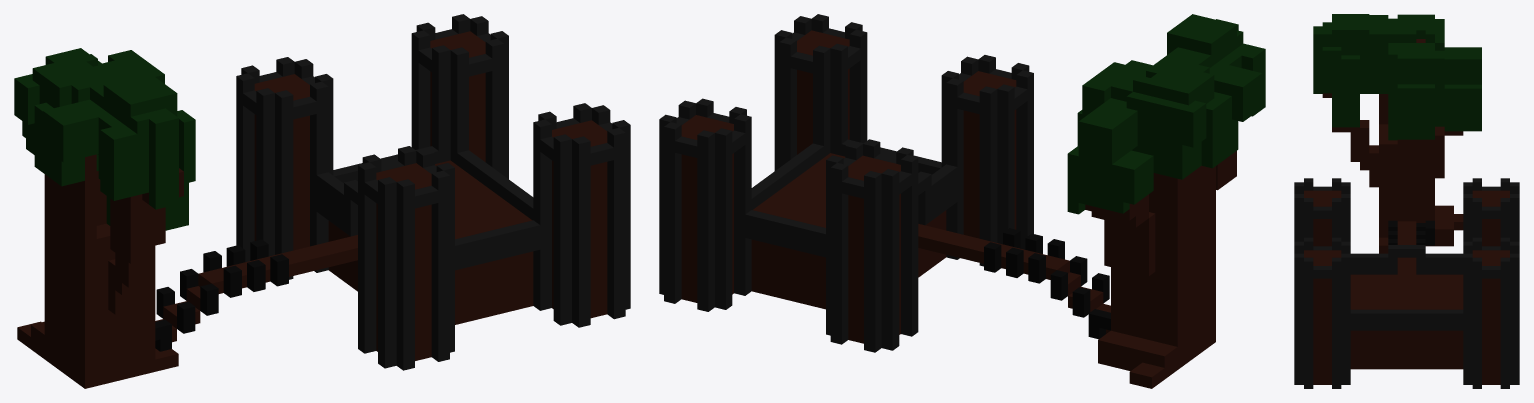
File: RandomBuilding.obj
3 renders of one model, left to right at view 1: azimuth 30°, elevation 25°; view 2: azimuth 150°, elevation 25°; view 3: azimuth 270°, elevation 25°, orthographic. The views are drawn at different scales.
Parts seen in each view (by area): view 1: Cube.2397_Cube.2476_Voxel_mat253, Cube.2397_Cube.2476_Voxel_mat138, Cube.2397_Cube.2476_Voxel_mat204, Cube.2397_Cube.2476_Voxel_mat255; view 2: Cube.2397_Cube.2476_Voxel_mat253, Cube.2397_Cube.2476_Voxel_mat138, Cube.2397_Cube.2476_Voxel_mat204, Cube.2397_Cube.2476_Voxel_mat255; view 3: Cube.2397_Cube.2476_Voxel_mat138, Cube.2397_Cube.2476_Voxel_mat253, Cube.2397_Cube.2476_Voxel_mat204, Cube.2397_Cube.2476_Voxel_mat255.
Part boxes in pixels (box(x1,y1,x2,y2)): Cube.2397_Cube.2476_Voxel_mat253: box(236, 14, 630, 370); Cube.2397_Cube.2476_Voxel_mat138: box(17, 31, 607, 388); Cube.2397_Cube.2476_Voxel_mat204: box(14, 48, 195, 230); Cube.2397_Cube.2476_Voxel_mat255: box(155, 239, 288, 351); Cube.2397_Cube.2476_Voxel_mat253: box(659, 14, 1033, 352); Cube.2397_Cube.2476_Voxel_mat138: box(681, 30, 1236, 388); Cube.2397_Cube.2476_Voxel_mat204: box(1067, 14, 1265, 214); Cube.2397_Cube.2476_Voxel_mat255: box(984, 228, 1110, 339); Cube.2397_Cube.2476_Voxel_mat138: box(1304, 39, 1509, 384); Cube.2397_Cube.2476_Voxel_mat253: box(1294, 178, 1519, 388); Cube.2397_Cube.2476_Voxel_mat204: box(1313, 14, 1481, 140); Cube.2397_Cube.2476_Voxel_mat255: box(1388, 220, 1434, 245).
Bounding box in the file's own units: 45 × 25 × 24.
